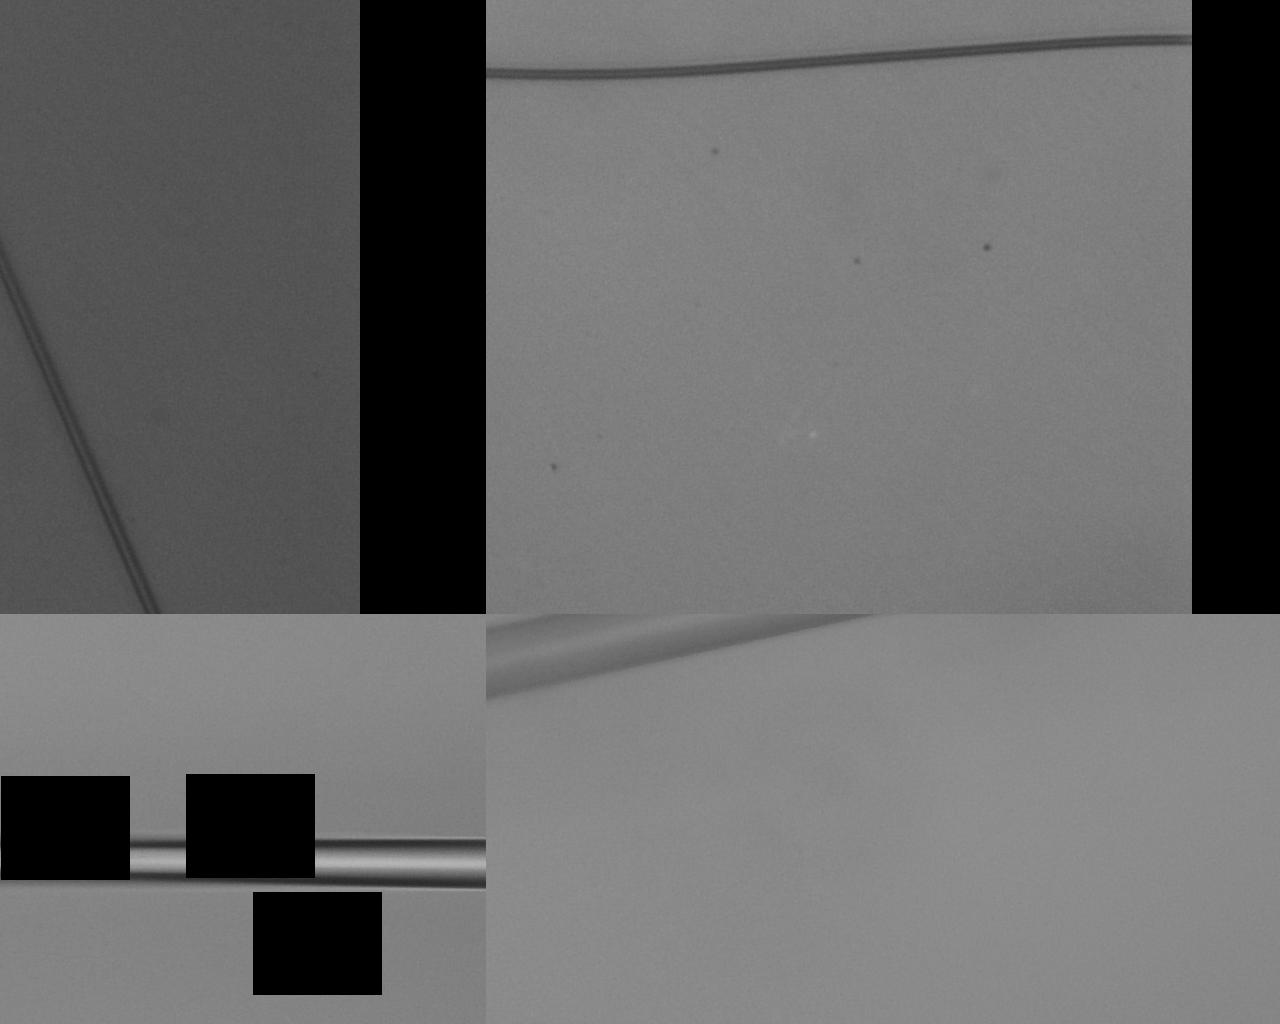fiber: (993, 552, 1280, 1024), (859, 0, 1055, 552), (280, 0, 408, 552)
